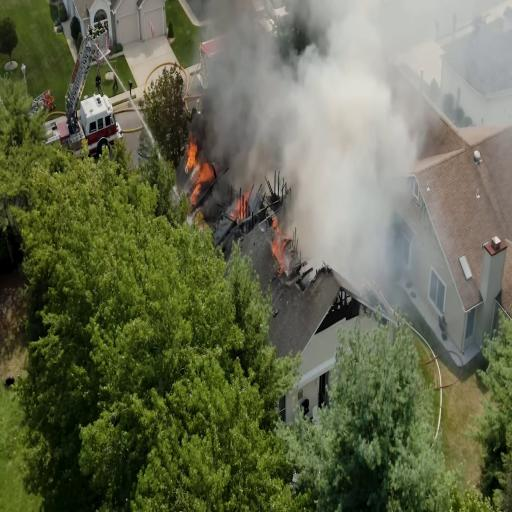smoke: (300, 69, 407, 223), (210, 9, 296, 147)
